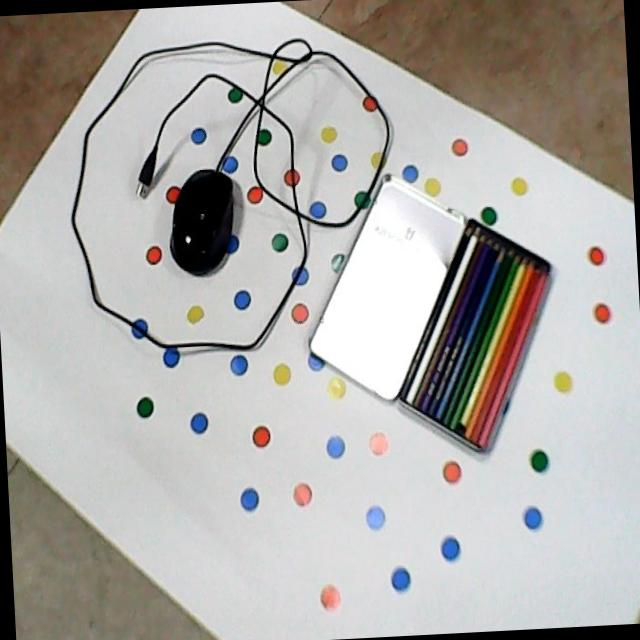color: (395, 212, 565, 470)
mouse: (167, 163, 240, 284)
